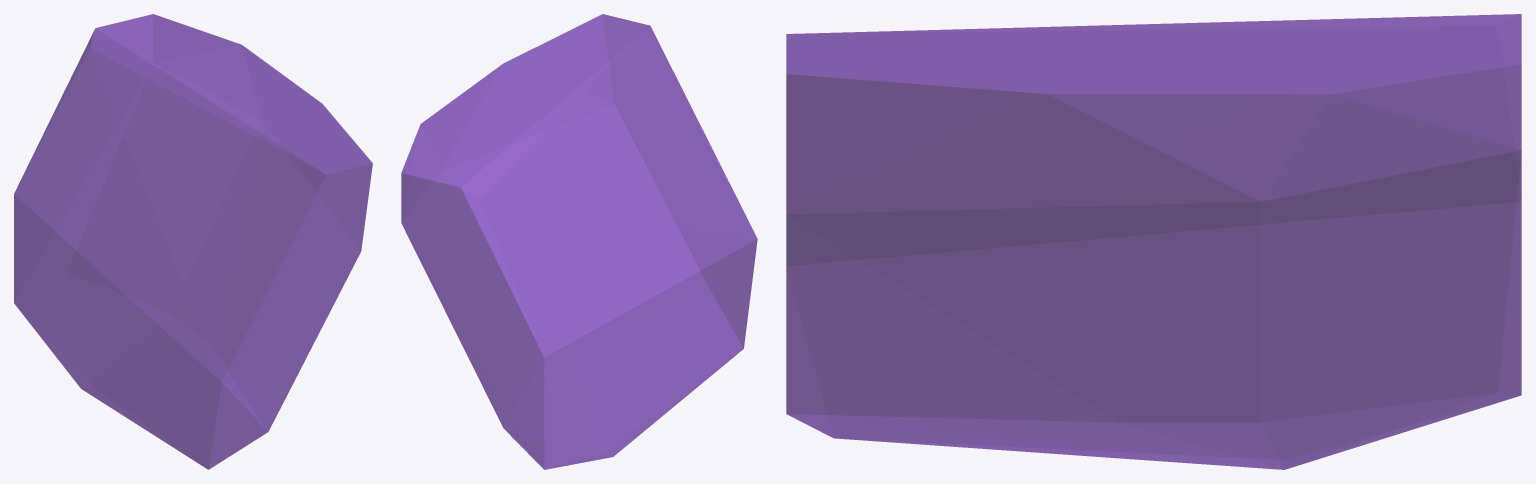
3 renders of one model, left to right at view 1: azimuth 30°, elevation 25°; view 2: azimuth 150°, elevation 25°; view 3: azimuth 270°, elevation 25°, orthographic. The views are drawn at different scales.
Visible parts, largest first — view 1: Shape_IndexedFaceSet.022_Shape_IndexedFaceSet.11443; view 2: Shape_IndexedFaceSet.022_Shape_IndexedFaceSet.11443; view 3: Shape_IndexedFaceSet.022_Shape_IndexedFaceSet.11443.
Boxes of the visible parts, box(x1,y1,x2,y2) form: Shape_IndexedFaceSet.022_Shape_IndexedFaceSet.11443: box(14, 14, 372, 469); Shape_IndexedFaceSet.022_Shape_IndexedFaceSet.11443: box(401, 14, 757, 469); Shape_IndexedFaceSet.022_Shape_IndexedFaceSet.11443: box(786, 14, 1521, 469).
Size of the model in its own units: 0.0281 by 0.0449 by 0.058.
